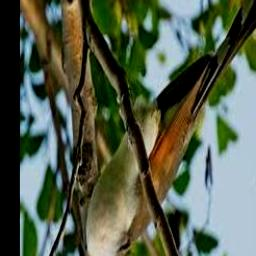Cuckoo: (73, 0, 256, 256)
